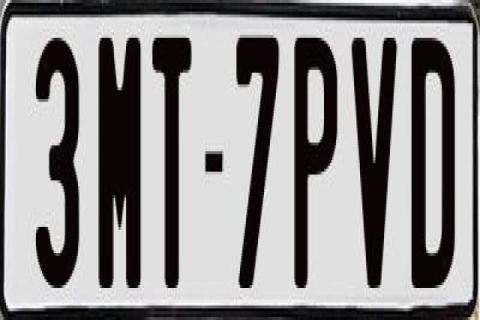0: (234, 32, 284, 282), (34, 35, 78, 285)
D: (408, 29, 456, 282)
M: (95, 29, 143, 279)
P: (294, 32, 338, 288)
T: (152, 32, 198, 294)
V: (350, 29, 398, 288)
